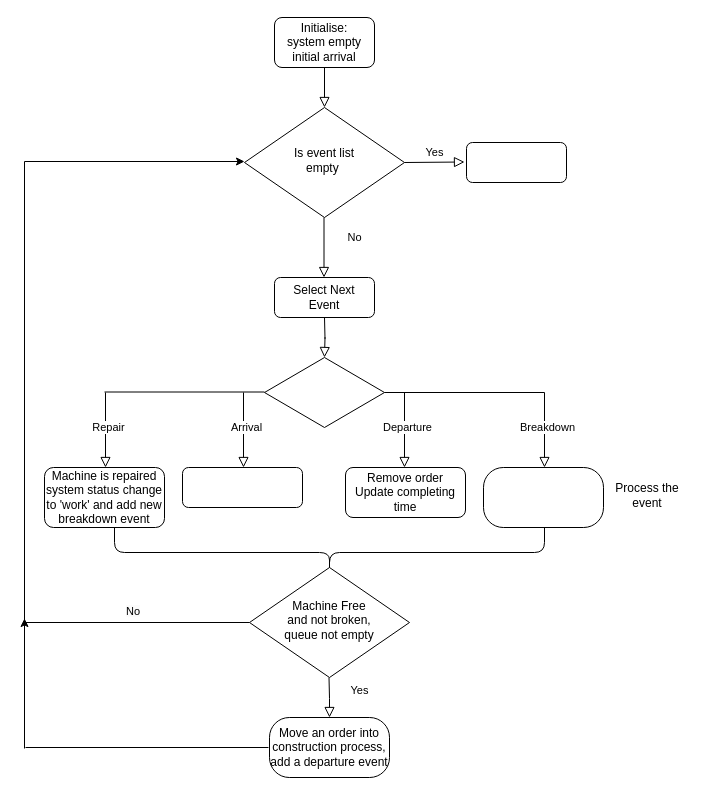
This 705x795 diagram has some shape labels left out. The shapes that lost their labels are listed below. From the top down, each one's centre as x and y in pixels, then its label:
point 516,162: Terminate Simulation
point 324,392: Type of Event
point 242,487: Add order, add new arrival event
point 543,497: Machine is broken, system status change to 'stop' and add new repair event
